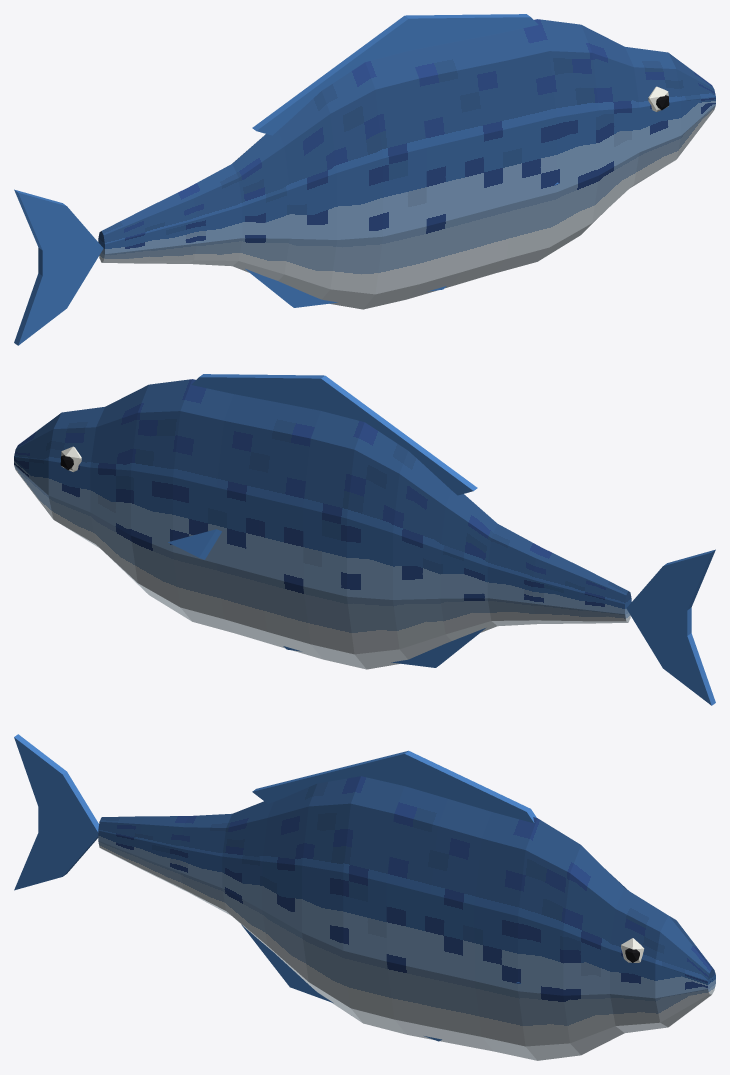
File: bluefin_trevally.glb
3 renders of one model, top to bottom at view 1: azimuth 30°, elevation 25°; view 2: azimuth 150°, elevation 25°; view 3: azimuth 330°, elevation 25°, orthographic.
Parts seen in each view (by area): view 1: fish_bluefin_trevally; view 2: fish_bluefin_trevally; view 3: fish_bluefin_trevally.
Boxes of the visible parts, <box> form: fish_bluefin_trevally: <box>14,14,715,345</box>; fish_bluefin_trevally: <box>14,374,715,705</box>; fish_bluefin_trevally: <box>14,734,715,1060</box>.
Bounding box in the file's own units: 1.14 × 0.4423 × 0.1417.
Materials: 4 (1 with a texture image).
